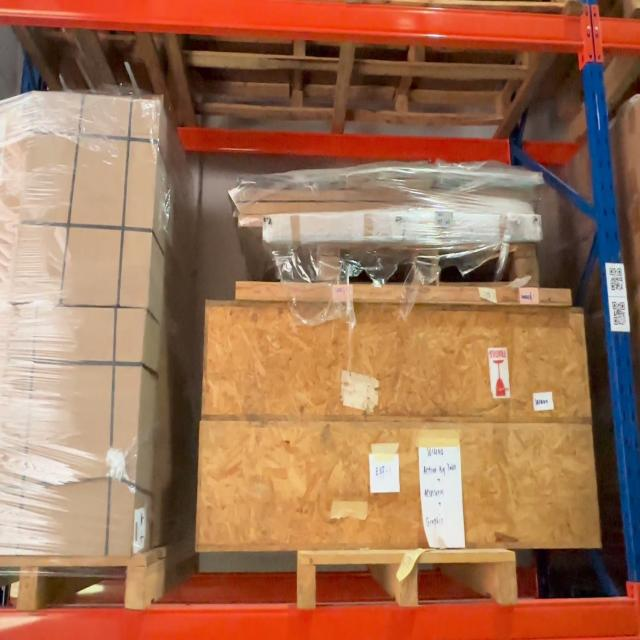box: (195, 419, 602, 551), (201, 305, 593, 422), (9, 96, 161, 313)
